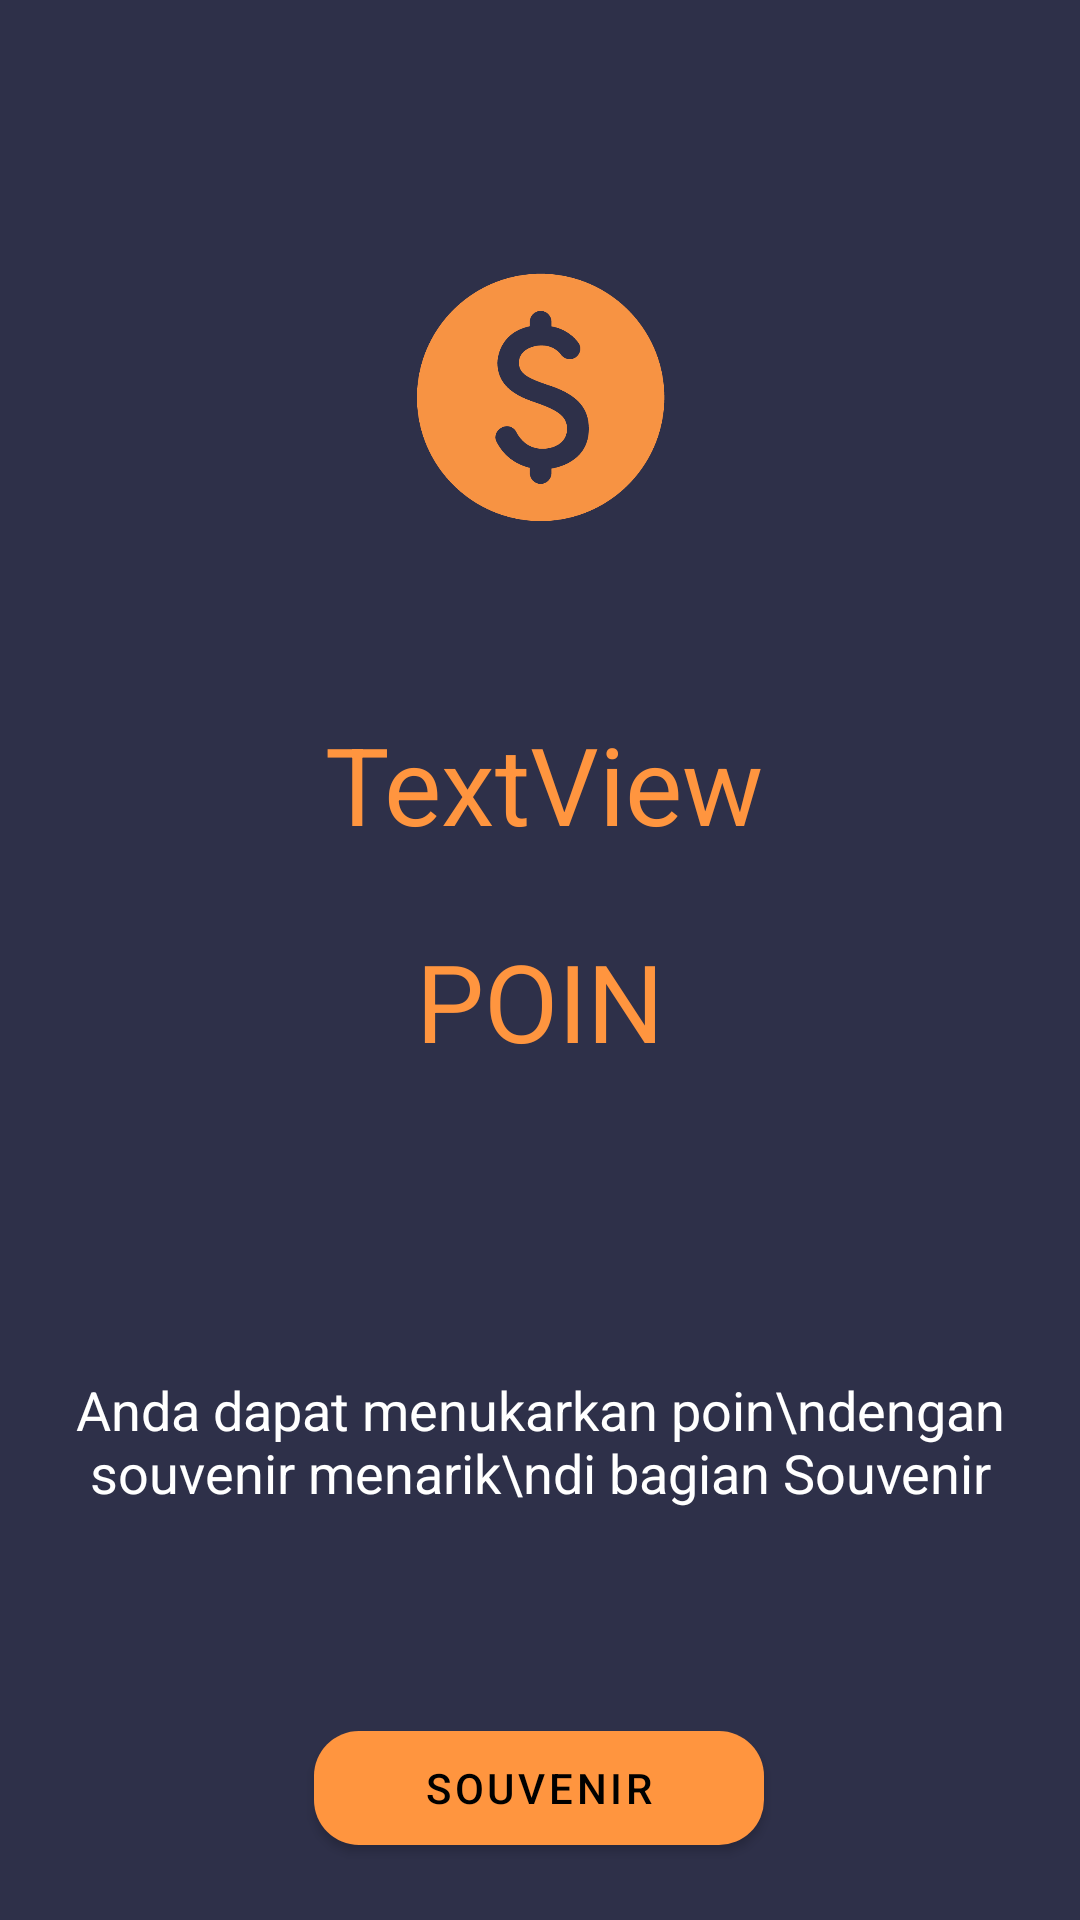

Screen size 1080×1920. Icon name, then its box in pixels as {"x1": x1, "y1": y1, "x2": x2, "y2": y2}:
rewardpoin: {"x1": 417, "y1": 273, "x2": 665, "y2": 521}
